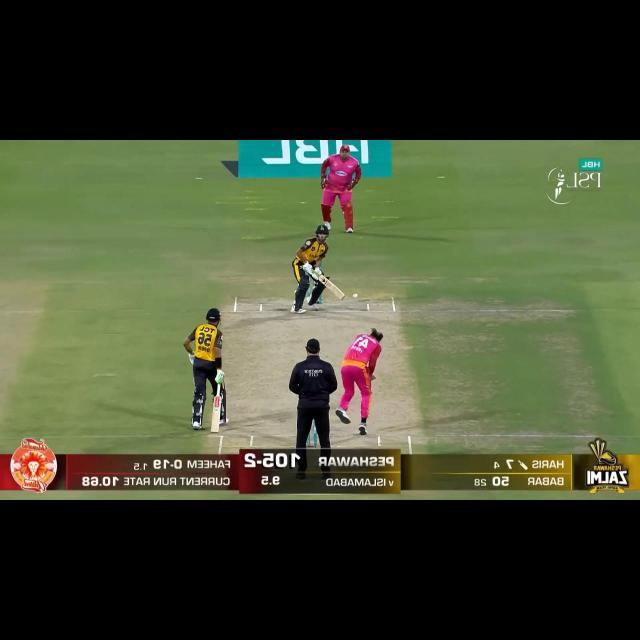bat: (317, 274, 346, 300), (209, 396, 224, 434)
toe: (209, 426, 220, 435), (336, 291, 346, 300)
